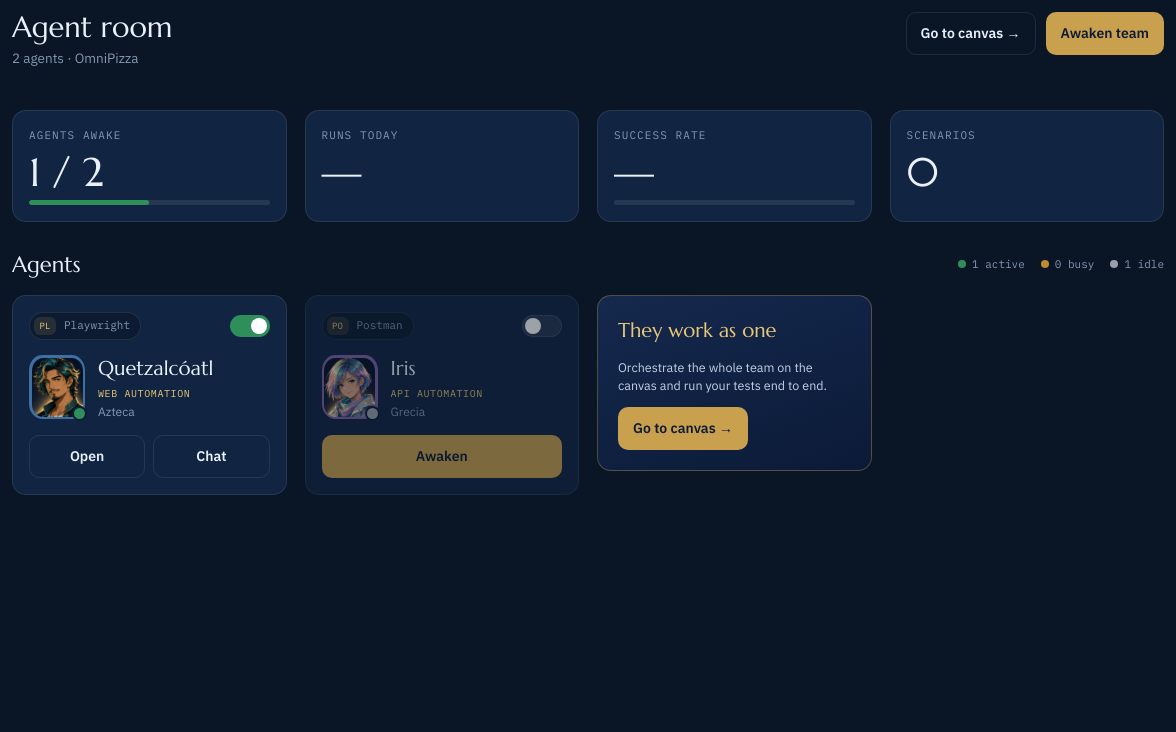
Test: AgentRoomScreen › surfaces an error when a toggle fails and leaves the awake KPI unchanged
Check: the text "Iris" is shown, box [390,356,416,381]
Click the switch named "Toggle Iris" at (542, 326), box [522,315,562,337]
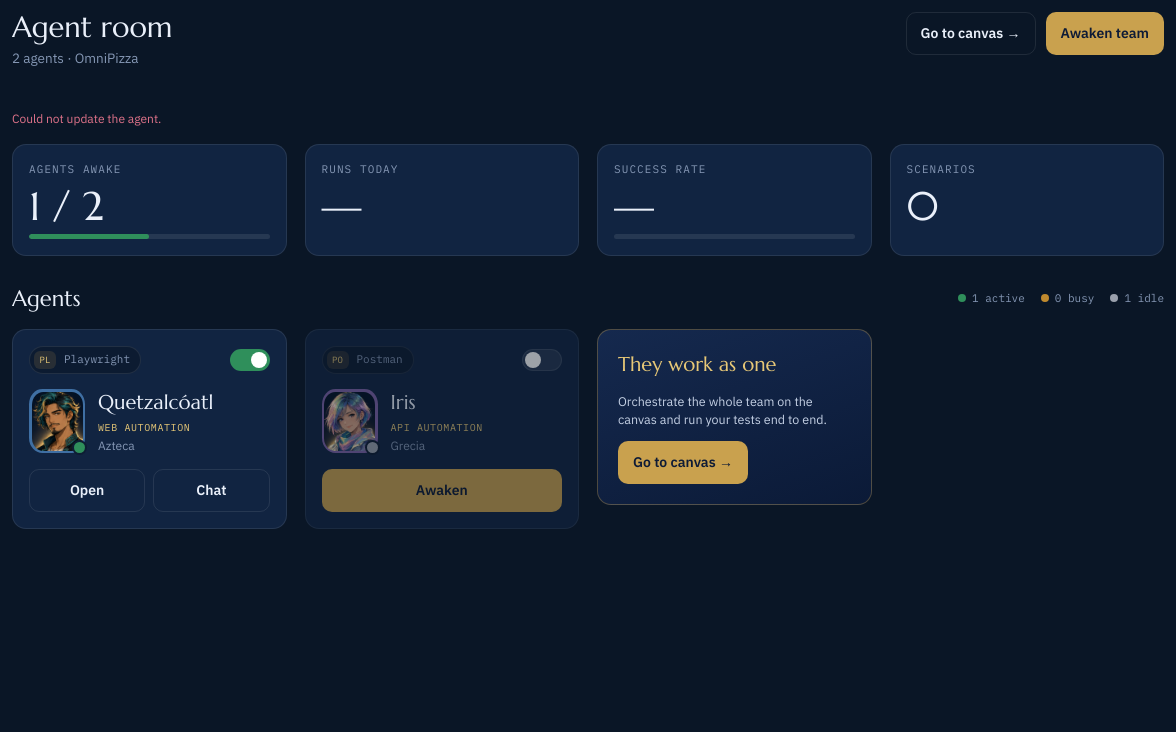
Check: the text "1 / 2" is shown, box [29,181,104,231]
Check: the message "Could not update the agent." is shown, box [12,111,161,126]
